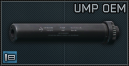HK UMP B&T OEM .45 ACP sound suppressor: (0, 0, 129, 66)
